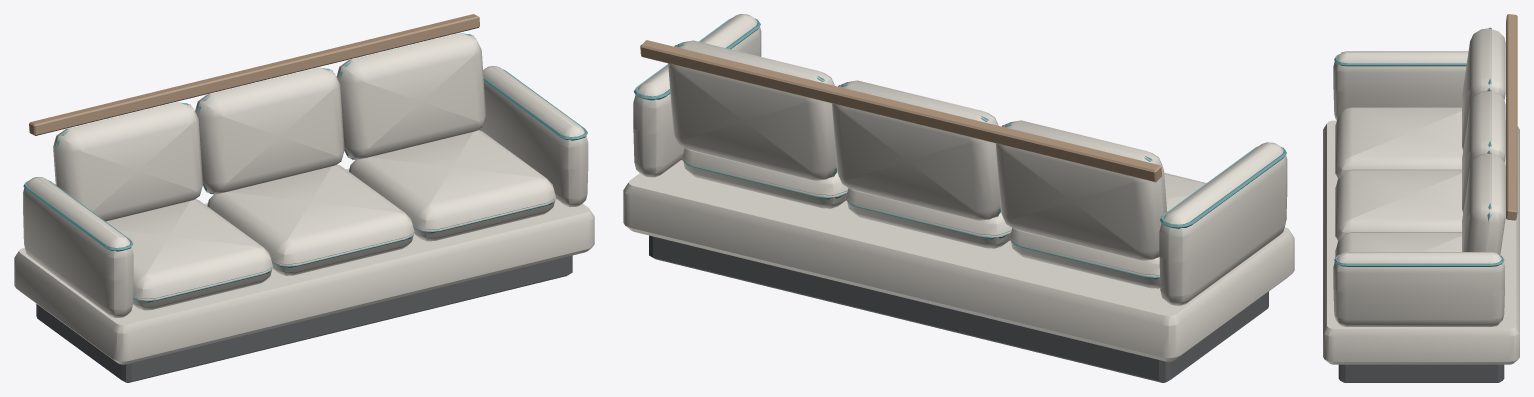
File: hotel-and-resort-operations-lobby-sofa-79174bf1.glb
The picture shows the model from 3 angles, left to right: view 1: azimuth 30°, elevation 25°; view 2: azimuth 150°, elevation 25°; view 3: azimuth 270°, elevation 25°; orthographic projection. The views are drawn at different scales.
Visible parts, largest first — view 1: lobby-sofa; view 2: lobby-sofa; view 3: lobby-sofa.
Boxes of the visible parts, x1,y1,x2,y2 form: lobby-sofa: [14, 14, 594, 382]; lobby-sofa: [623, 14, 1294, 382]; lobby-sofa: [1323, 14, 1519, 382].
Size of the model in its own units: 2.25 by 0.857 by 0.88.
